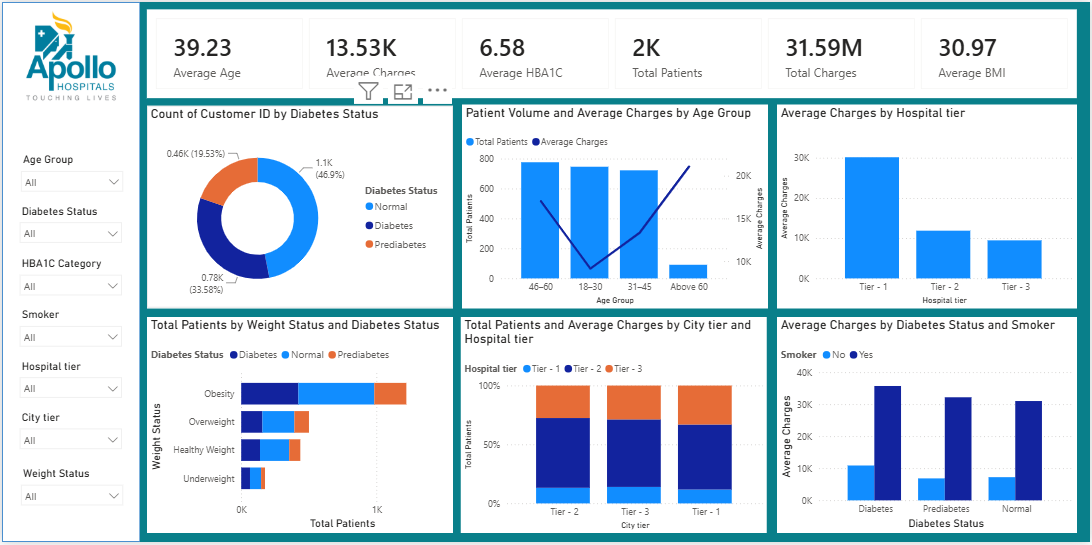

The page's visual inventory and layout, read from the dashboard file:
{"tool":"powerbi","page":{"name":"Page 1","canvas":[1450,720],"ordinal":0},"visuals":[{"type":"shape","box":[0,0,184.3,720],"z":0},{"type":"cardVisual","fields":{"Data":["Healthcare.Average Age","Healthcare.Average Charges","Healthcare.Average HBA1C","Healthcare.Total Patients","Healthcare.Total Charges","Healthcare.Average BMI"]},"box":[188.3,5,1253.3,128.3],"z":1000},{"type":"clusteredColumnChart","fields":{"Category":["Healthcare.Hospital tier"],"Y":["Healthcare.Average Charges"]},"box":[1033.3,136.7,400,271.7],"z":3000},{"type":"barChart","fields":{"Category":["Healthcare.Weight Status"],"Y":["Healthcare.Total Patients"],"Series":["Healthcare.Diabetes Status"]},"box":[193.3,420,408.3,288.3],"z":4000},{"type":"lineClusteredColumnComboChart","title":"Patient Volume and Average Charges by Age Group","fields":{"Y":["Healthcare.Total Patients"],"Y2":["Healthcare.Average Charges"],"Category":["Healthcare.Age Group"]},"box":[613.3,136.7,408.3,271.7],"z":5000},{"type":"hundredPercentStackedColumnChart","fields":{"Category":["Healthcare.City tier"],"Y":["Healthcare.Total Patients"],"Series":["Healthcare.Hospital tier"]},"box":[611.7,420,408.3,288.3],"z":6000},{"type":"image","box":[0,5,184.3,132.9],"z":7000},{"type":"clusteredColumnChart","fields":{"Category":["Healthcare.Diabetes Status"],"Y":["Healthcare.Average Charges"],"Series":["Healthcare.Smoker"]},"box":[1033,420,400,288],"z":8000},{"type":"slicer","fields":{"Values":["Healthcare.Age Group"]},"box":[15,196.7,156.7,76.7],"z":9000},{"type":"slicer","fields":{"Values":["Healthcare.Diabetes Status"]},"box":[13.3,265,156.7,76.7],"z":10000},{"type":"slicer","fields":{"Values":["Healthcare.HBA1C Category"]},"box":[13.3,335,156.7,76.7],"z":11000},{"type":"slicer","fields":{"Values":["Healthcare.Smoker"]},"box":[13.3,403.3,156.7,76.7],"z":12000},{"type":"slicer","fields":{"Values":["Healthcare.Hospital tier"]},"box":[13.3,471.7,156.7,76.7],"z":13000},{"type":"slicer","fields":{"Values":["Healthcare.City tier"]},"box":[13.3,540,156.7,76.7],"z":14000},{"type":"slicer","fields":{"Values":["Healthcare.Weight Status"]},"box":[15,615,156.7,76.7],"z":15000},{"type":"donutChart","fields":{"Category":["Healthcare.Diabetes Status"],"Y":["CountNonNull(Healthcare.Customer ID)"]},"box":[193.3,138.3,408.3,270],"z":15001}]}

Visuals, with their boxes in screenshot pixels (x1, y1, x2, y2), scaled from the page's 1450x720 canvas onto the 1092x545 screenshot:
shape: bbox(0, 0, 139, 544)
cardVisual - Healthcare.Average Age x Healthcare.Average Charges: bbox(142, 4, 1086, 101)
clusteredColumnChart - Healthcare.Hospital tier x Healthcare.Average Charges: bbox(778, 103, 1079, 309)
barChart - Healthcare.Weight Status x Healthcare.Total Patients: bbox(146, 318, 453, 536)
"Patient Volume and Average Charges by Age Group" lineClusteredColumnComboChart: bbox(462, 103, 769, 309)
hundredPercentStackedColumnChart - Healthcare.City tier x Healthcare.Total Patients: bbox(461, 318, 768, 536)
image: bbox(0, 4, 139, 104)
clusteredColumnChart - Healthcare.Diabetes Status x Healthcare.Average Charges: bbox(778, 318, 1079, 536)
slicer - Healthcare.Age Group: bbox(11, 149, 129, 207)
slicer - Healthcare.Diabetes Status: bbox(10, 201, 128, 259)
slicer - Healthcare.HBA1C Category: bbox(10, 254, 128, 312)
slicer - Healthcare.Smoker: bbox(10, 305, 128, 363)
slicer - Healthcare.Hospital tier: bbox(10, 357, 128, 415)
slicer - Healthcare.City tier: bbox(10, 409, 128, 467)
slicer - Healthcare.Weight Status: bbox(11, 466, 129, 524)
donutChart - Healthcare.Diabetes Status x CountNonNull(Healthcare.Customer ID): bbox(146, 105, 453, 309)
